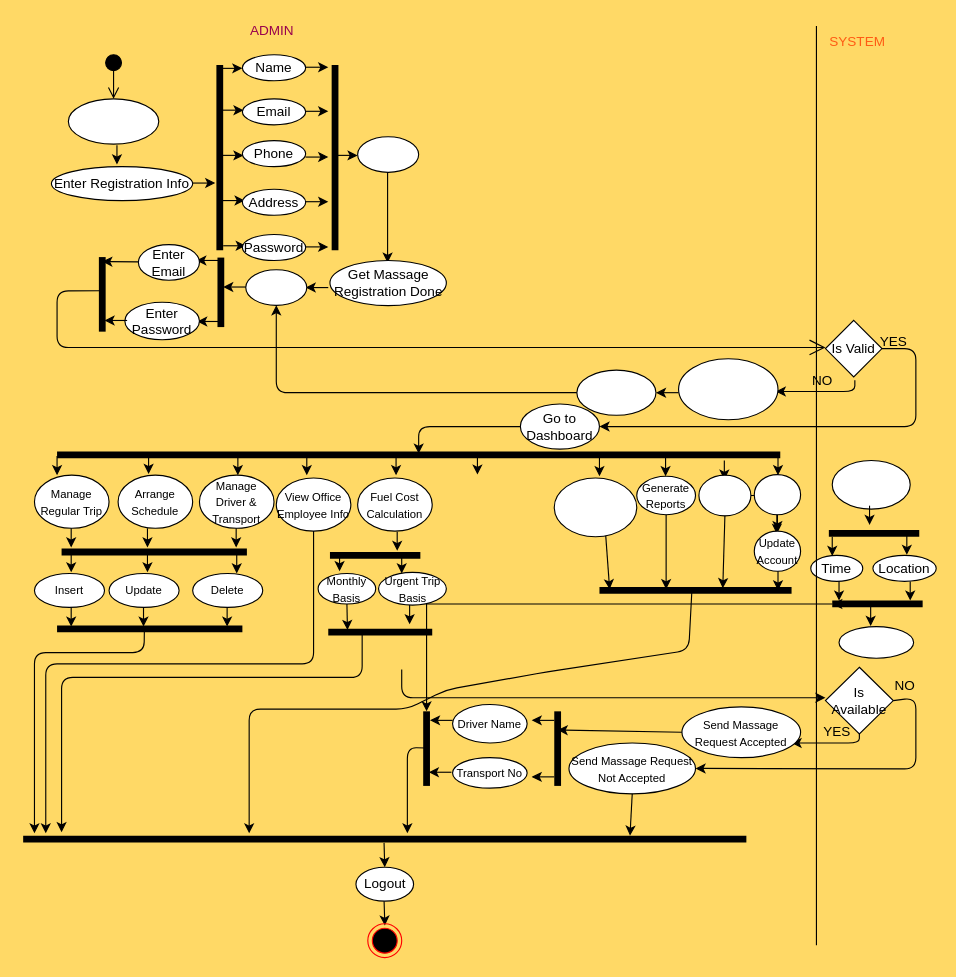
Some shapes in this 956 by 977 pixel diagram are drawn without their labels. Each missing label, with the centre of its shape:
"Check Availibility" goes at (876,641).
"Click at Login" goes at (276,287).
"Enter Submit" goes at (388,154).
"Input Info Again" goes at (616,392).
"Message to Driver if any Urgent Trip" goes at (595,507).
"Register" goes at (113,121).
"See Login Failed Massage" goes at (727,389).
"See Request for Urgent Trip" goes at (870,484).
"View Account" goes at (777,494).
"View Review" goes at (724,495).
